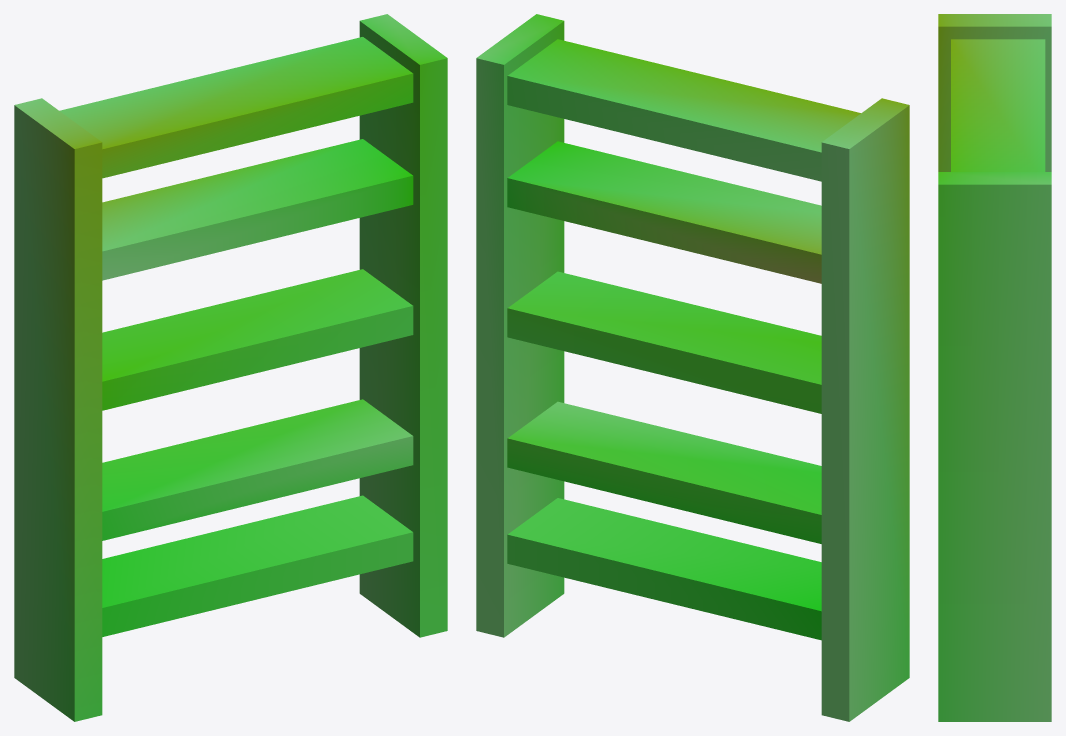
The model's file is Shelf_2.fbx.
3 views of the same model, side by side, from view 1: azimuth 30°, elevation 25°; view 2: azimuth 150°, elevation 25°; view 3: azimuth 270°, elevation 25° (orthographic). The views are drawn at different scales.
Parts seen in each view (by area): view 1: Shelf_2; view 2: Shelf_2; view 3: Shelf_2.
Part boxes in pixels (<box>): Shelf_2: <box>14,14,447,721</box>; Shelf_2: <box>476,14,909,721</box>; Shelf_2: <box>938,14,1051,721</box>.
Size of the model in its own units: 1.5 by 2.2 by 0.42.
